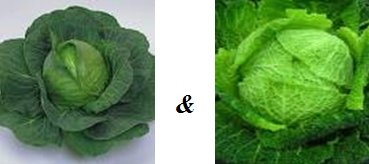cabbage: (214, 0, 368, 163), (0, 6, 157, 159)
